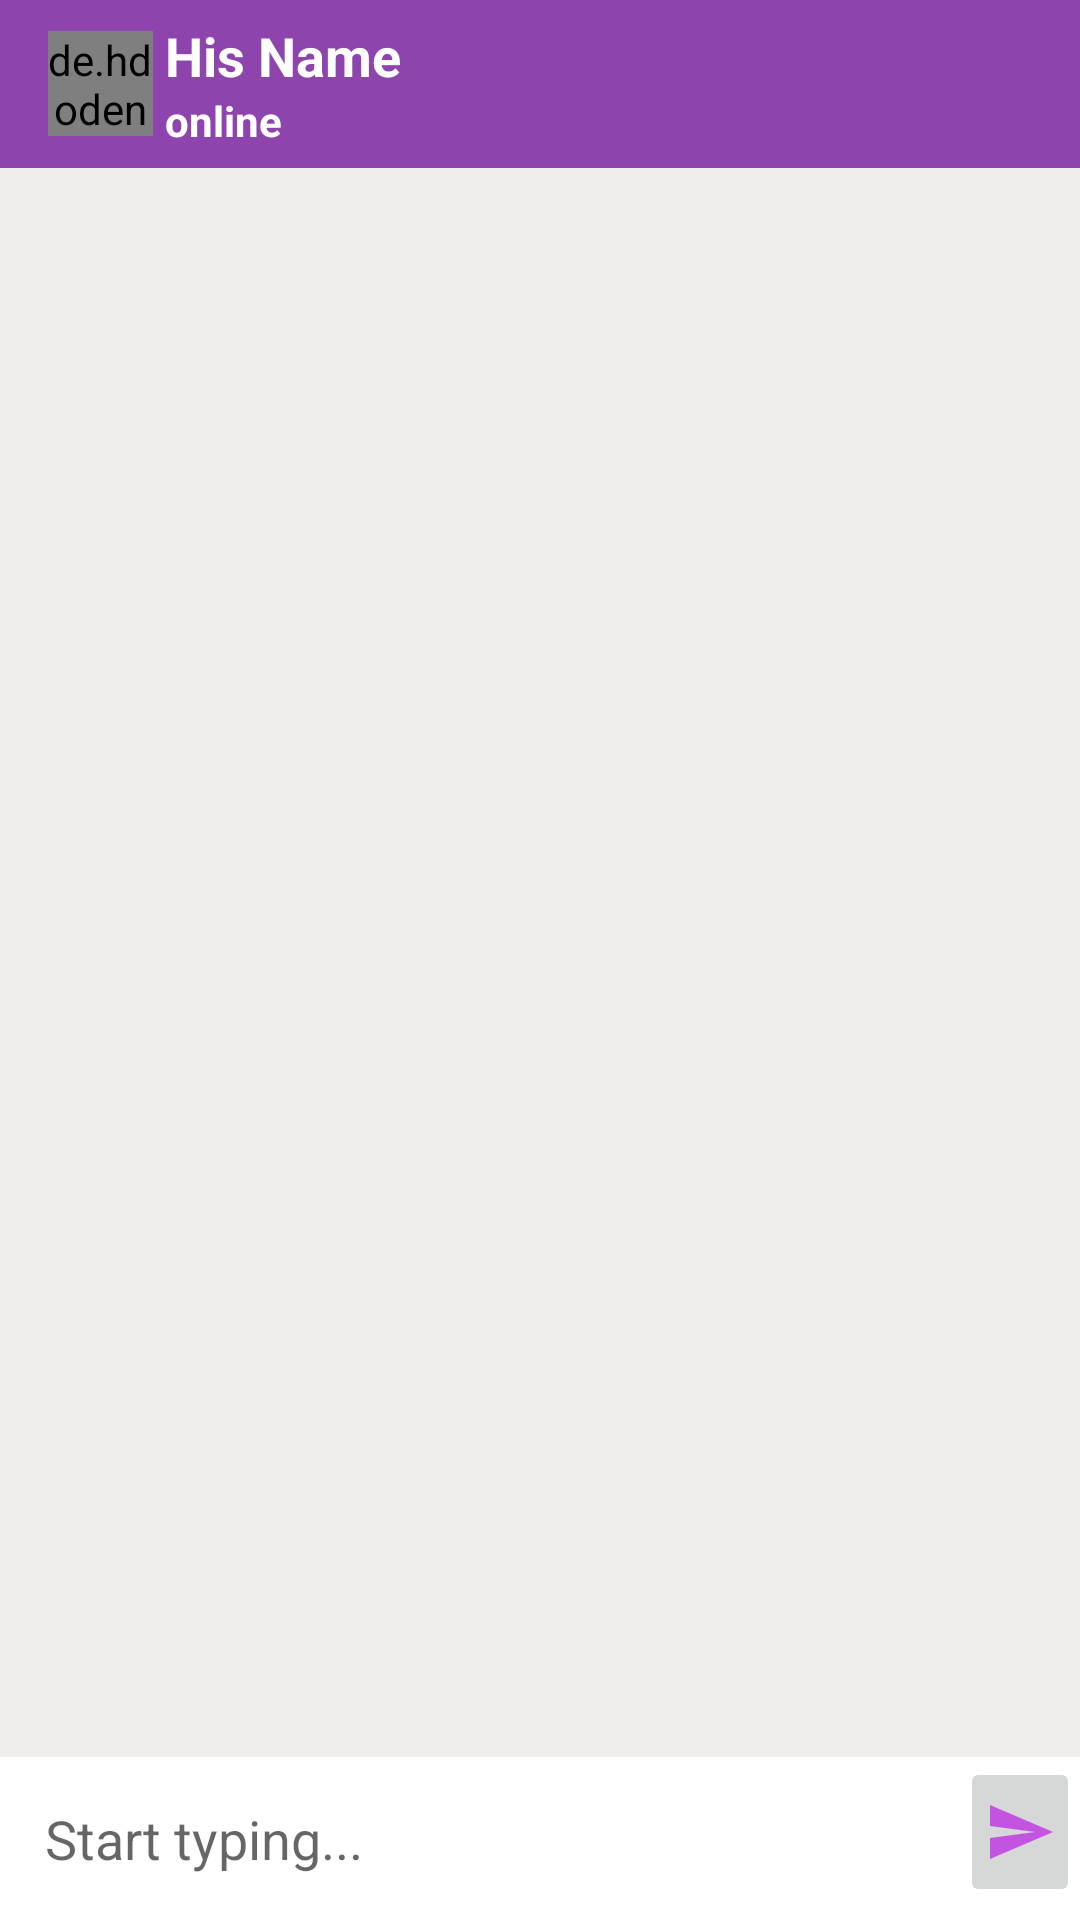

Screen size 1080 × 1920. Icon name, then its box in pixels as (x1, y1, x2, y2):
send: (972, 1775, 1068, 1889)
